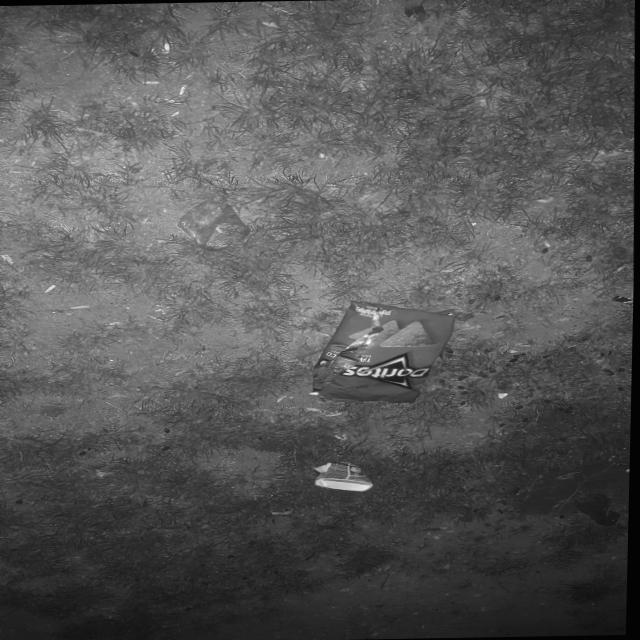Paper: (304, 458, 382, 494)
Plastic: (300, 286, 472, 412)
